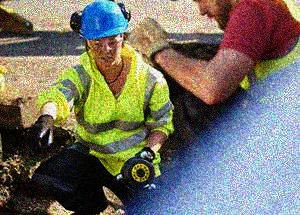helmet: (77, 1, 129, 67)
